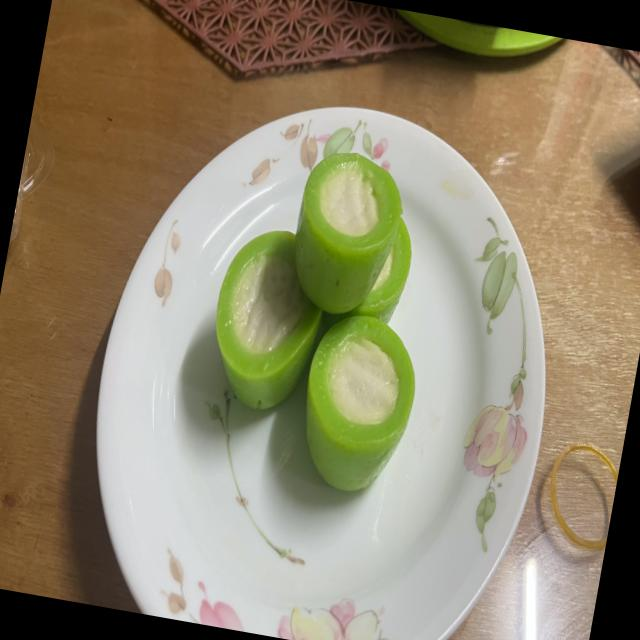nona-manis: (306, 315, 415, 491), (216, 230, 321, 409), (294, 151, 402, 314), (348, 217, 411, 323)
